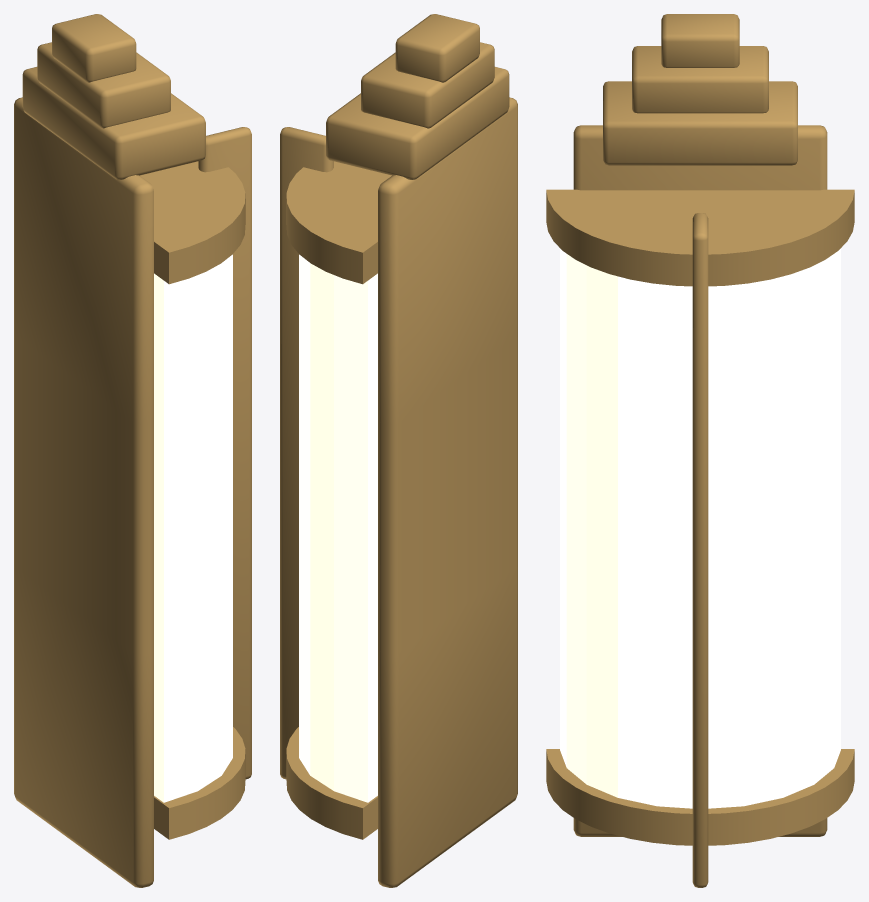
Rendered from sconce_deco.glb.
3 views of the same model, side by side, from view 1: azimuth 30°, elevation 25°; view 2: azimuth 150°, elevation 25°; view 3: azimuth 270°, elevation 25° (orthographic).
Visible parts, largest first — view 1: Plate_LOD0, Shade_LOD0, Fin_LOD0, Rim1_LOD0, Crown0_LOD0, Crown1_LOD0, Crown2_LOD0, Rim0_LOD0; view 2: Plate_LOD0, Shade_LOD0, Fin_LOD0, Rim1_LOD0, Crown0_LOD0, Crown1_LOD0, Crown2_LOD0, Rim0_LOD0; view 3: Shade_LOD0, Rim1_LOD0, Crown0_LOD0, Rim0_LOD0, Fin_LOD0, Plate_LOD0, Crown1_LOD0, Crown2_LOD0.
Part boxes in pixels (box(x1,y1,x2,y2)): Plate_LOD0: box(14, 97, 153, 887); Shade_LOD0: box(154, 254, 232, 802); Fin_LOD0: box(198, 127, 251, 779); Rim1_LOD0: box(140, 161, 245, 284); Crown0_LOD0: box(22, 67, 205, 179); Crown1_LOD0: box(37, 42, 170, 128); Crown2_LOD0: box(52, 14, 136, 82); Rim0_LOD0: box(154, 727, 245, 839); Plate_LOD0: box(378, 97, 517, 887); Shade_LOD0: box(299, 254, 377, 802); Fin_LOD0: box(280, 127, 333, 779); Rim1_LOD0: box(286, 161, 391, 284); Crown0_LOD0: box(326, 67, 509, 179); Crown1_LOD0: box(361, 42, 494, 128); Crown2_LOD0: box(395, 14, 479, 82); Rim0_LOD0: box(286, 727, 377, 839); Shade_LOD0: box(560, 248, 840, 808); Rim1_LOD0: box(546, 189, 854, 286); Crown0_LOD0: box(603, 81, 797, 165); Rim0_LOD0: box(546, 749, 854, 845); Fin_LOD0: box(692, 213, 708, 887); Plate_LOD0: box(573, 125, 827, 836); Crown1_LOD0: box(632, 46, 768, 113); Crown2_LOD0: box(661, 14, 739, 67).
Bounding box in the file's own units: 0.108 × 0.461 × 0.158.
